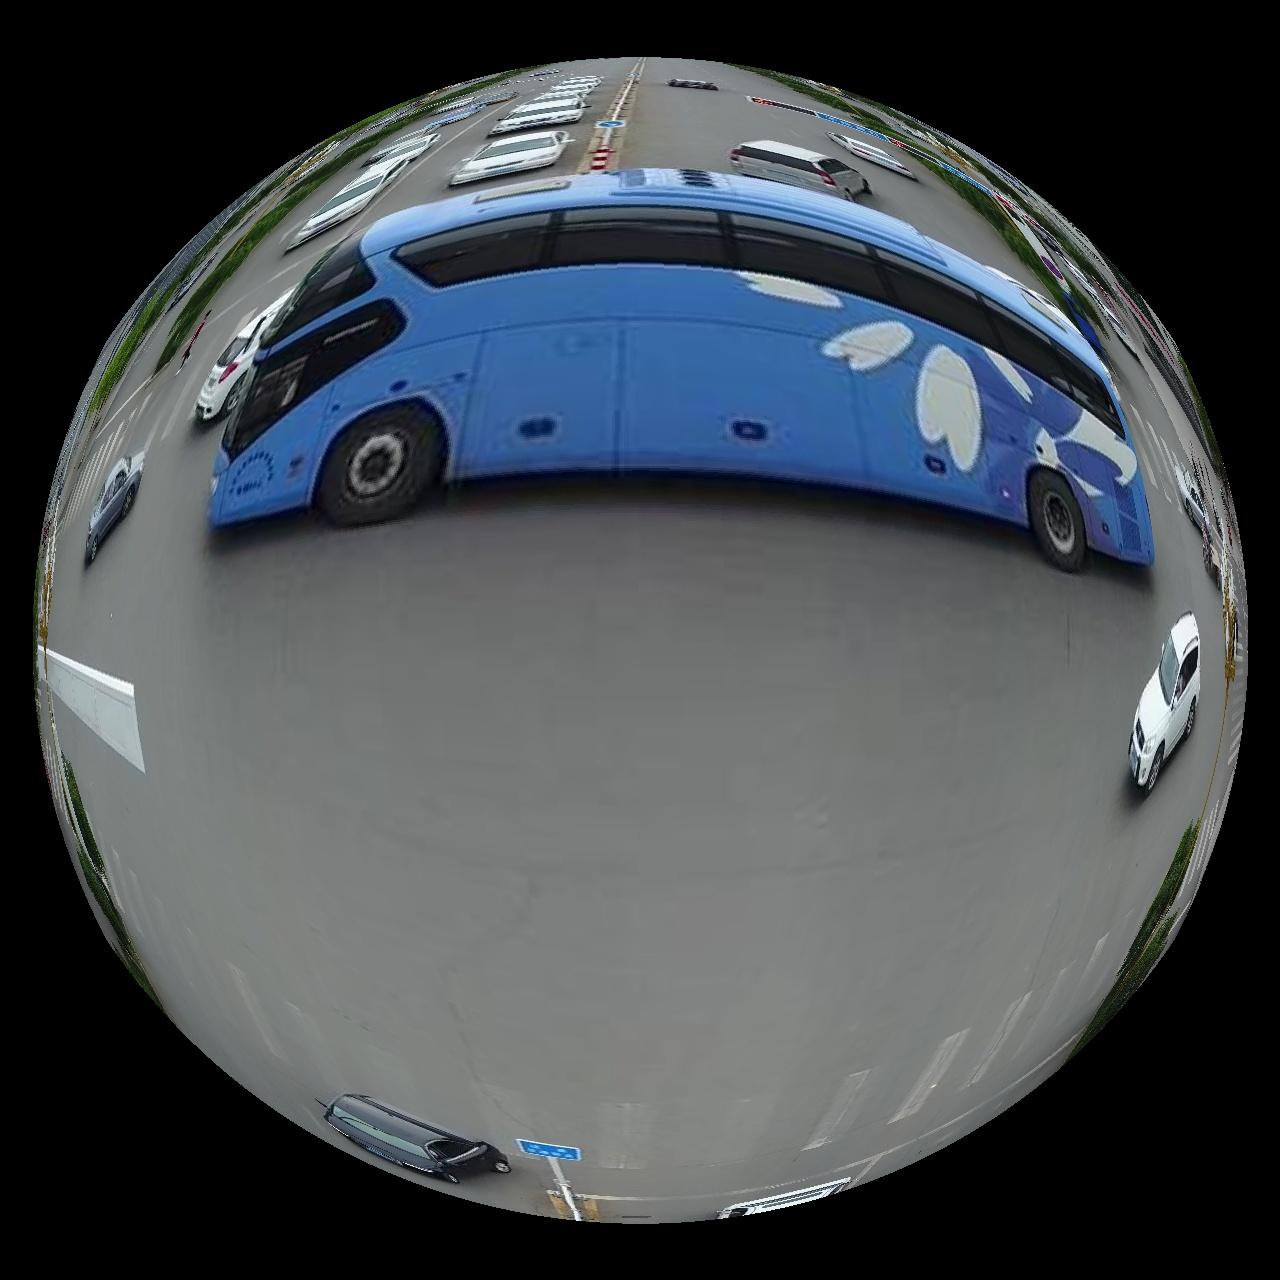cars: (207, 169, 1157, 570), (324, 1097, 511, 1185), (1132, 612, 1204, 795), (195, 290, 291, 421), (286, 155, 408, 250), (730, 139, 871, 198), (83, 451, 143, 565), (449, 129, 570, 184), (831, 132, 919, 178), (489, 95, 585, 134), (667, 76, 719, 89)
trees: (1075, 821, 1203, 1058)
